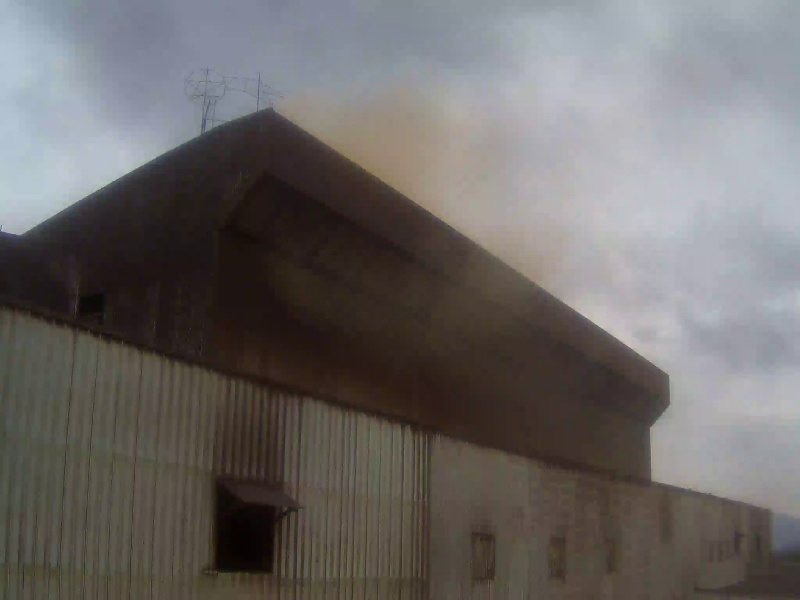bom: (6, 11, 267, 162)
ruim: (280, 70, 593, 395)
